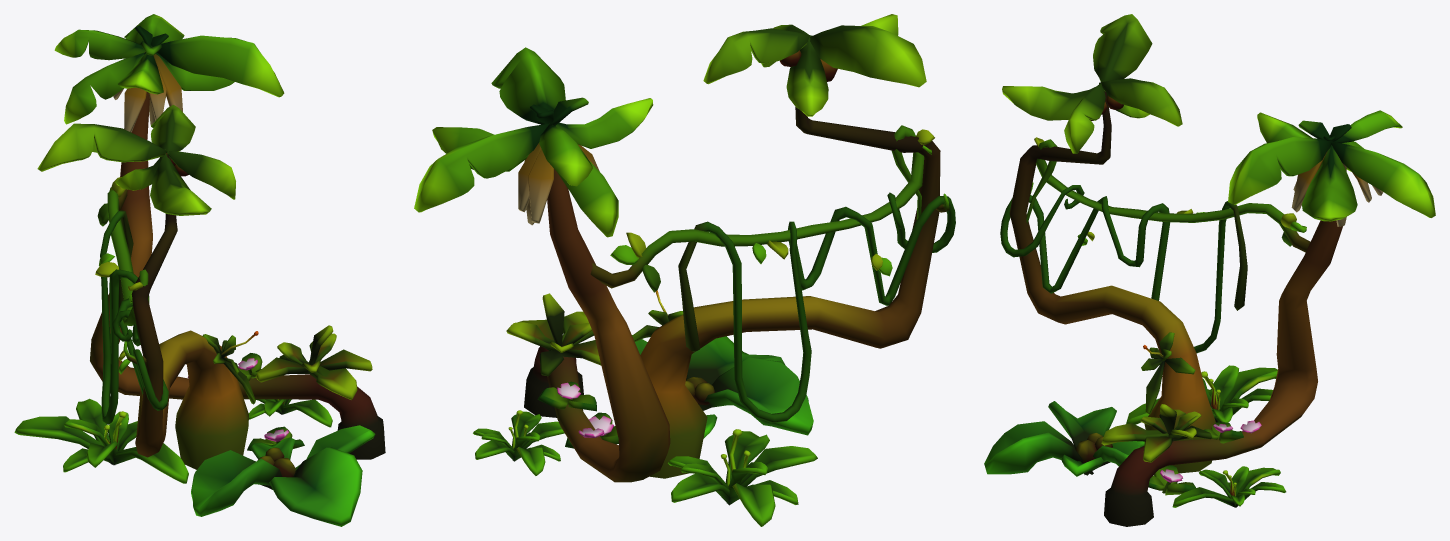
File: Comp_00.fbx
3 renders of one model, left to right at view 1: azimuth 30°, elevation 25°; view 2: azimuth 150°, elevation 25°; view 3: azimuth 270°, elevation 25°, orthographic. The views are drawn at different scales.
Visible parts, largest first — view 1: Comp_00; view 2: Comp_00; view 3: Comp_00.
Boxes of the visible parts, box(x1,y1,x2,y2) form: Comp_00: box(14, 14, 385, 526); Comp_00: box(414, 14, 955, 526); Comp_00: box(984, 14, 1435, 526).
Bounding box in the file's own units: 4728 × 5247 × 5699.
